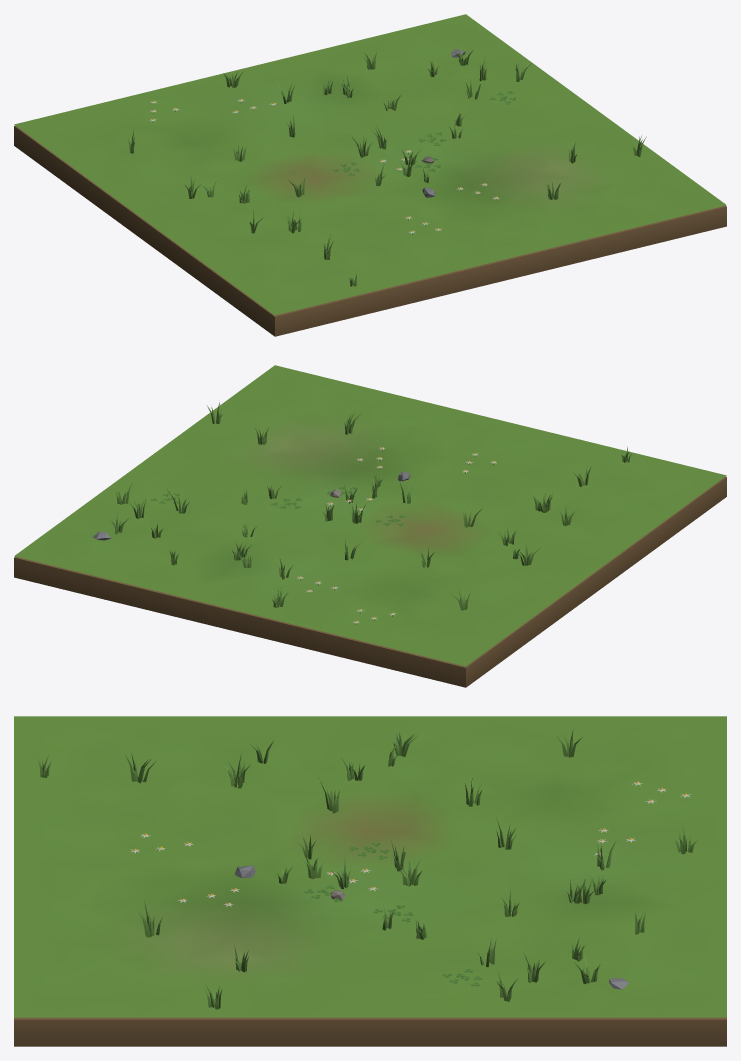
The model's file is fairground-grass-tile.glb.
3 renders of one model, top to bottom at view 1: azimuth 30°, elevation 25°; view 2: azimuth 150°, elevation 25°; view 3: azimuth 270°, elevation 25°, orthographic. The views are drawn at different scales.
Visible parts, largest first — view 1: fairground_grass_tile; view 2: fairground_grass_tile; view 3: fairground_grass_tile.
Boxes of the visible parts, x1,y1,x2,y2 form: fairground_grass_tile: (14, 14, 726, 336); fairground_grass_tile: (14, 365, 726, 687); fairground_grass_tile: (14, 716, 726, 1046).
Size of the model in its own units: 4 by 0.3662 by 4.
